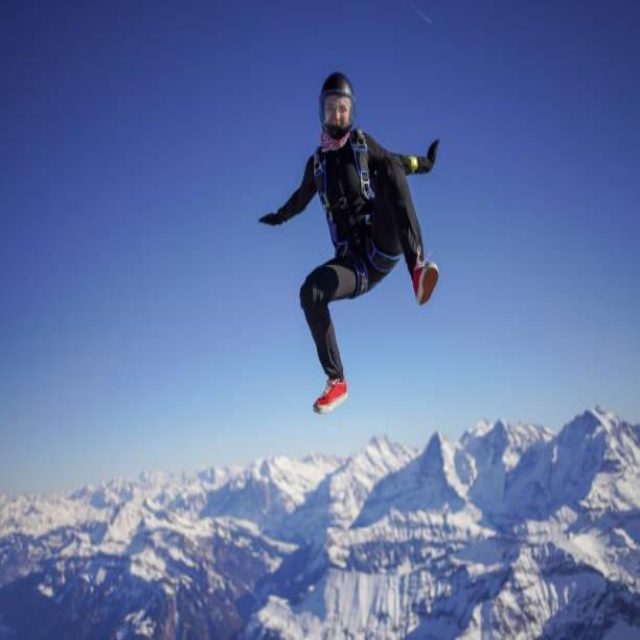Arnes_seguridad: (301, 129, 404, 304)
